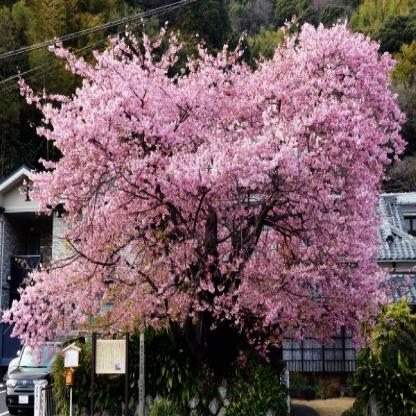KawazuSakura: (15, 13, 409, 378)
